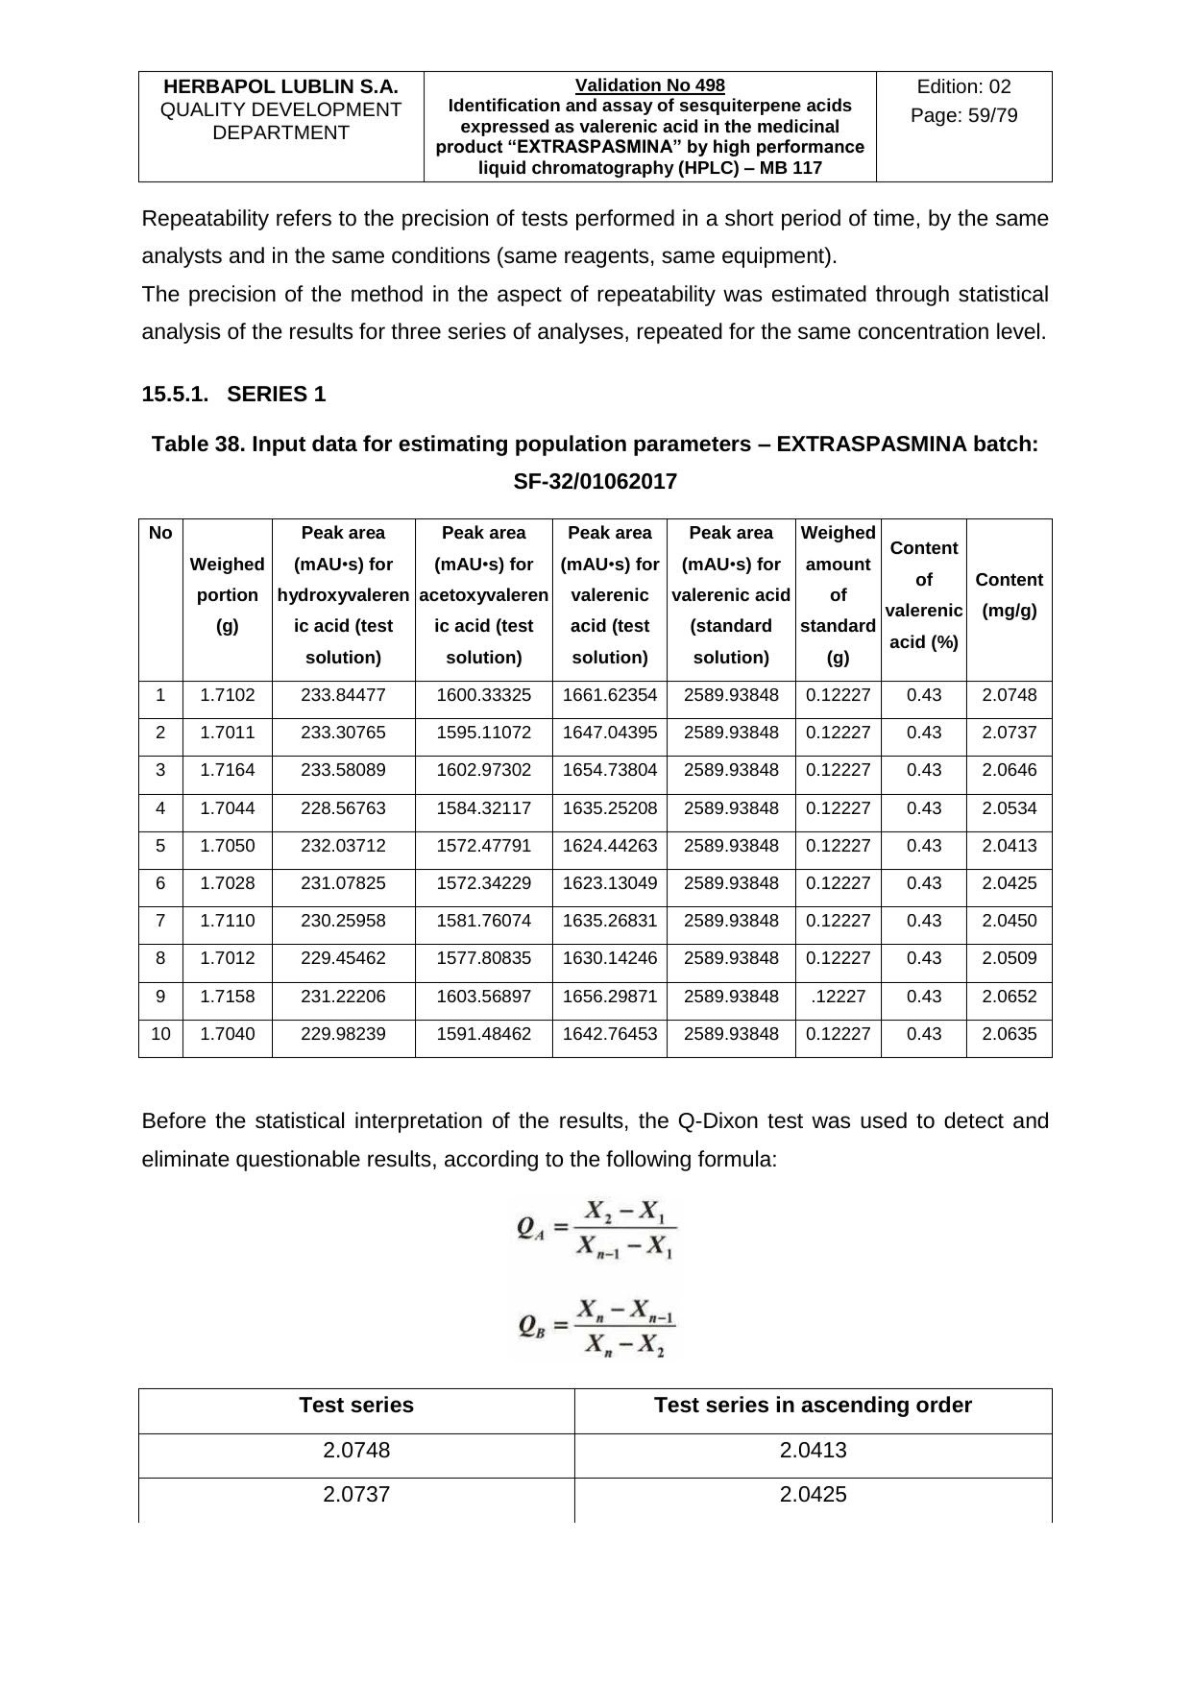full_lined: (135, 516, 1054, 1060), (137, 70, 1054, 184)
partial_lined: (135, 1386, 1054, 1525)
